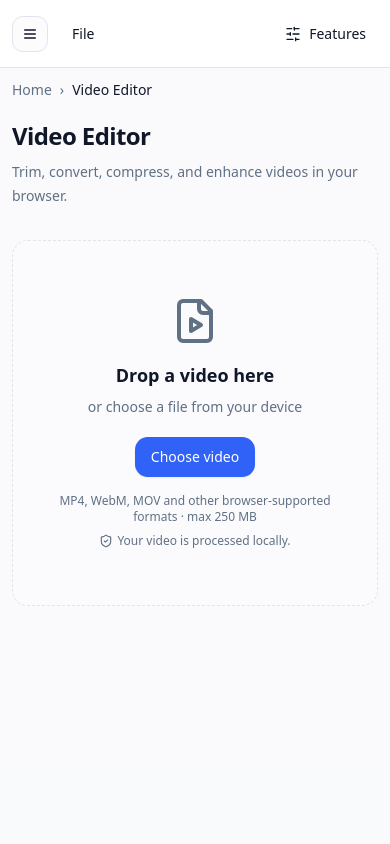
VideoWorkbench › exposes all 23 feature actions in grouped mobile menu
Click the button with aria-label "Open video editor features" at (326, 34), box left=273, top=16, right=378, bottom=52
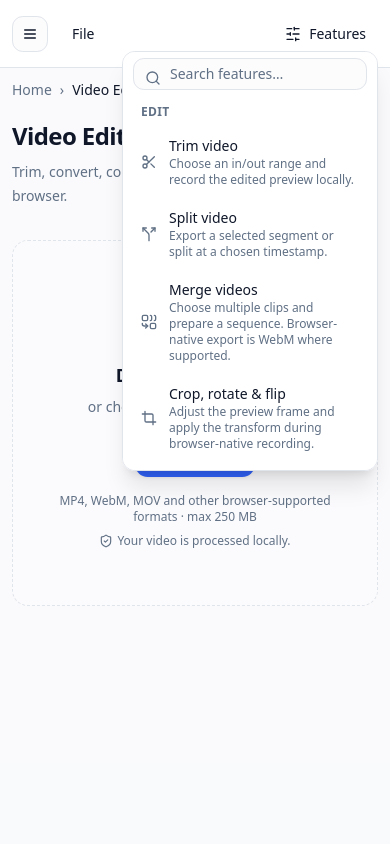
Expected: the element with test id "video-feature-menu" shows "Trim video", left=129, top=126, right=371, bottom=198
Expected: the element with test id "video-feature-menu" shows "Split video", left=129, top=198, right=371, bottom=270
Expected: the element with test id "video-feature-menu" shows "Merge videos", left=129, top=270, right=371, bottom=374
